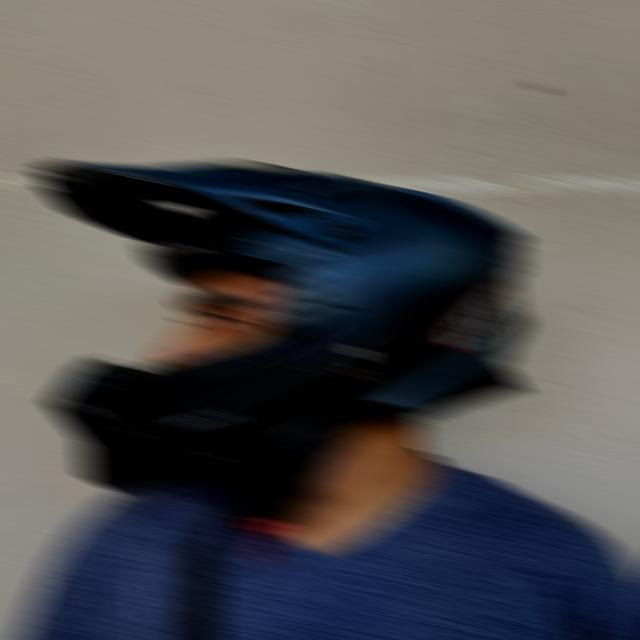With Helmet: (33, 158, 529, 492)
